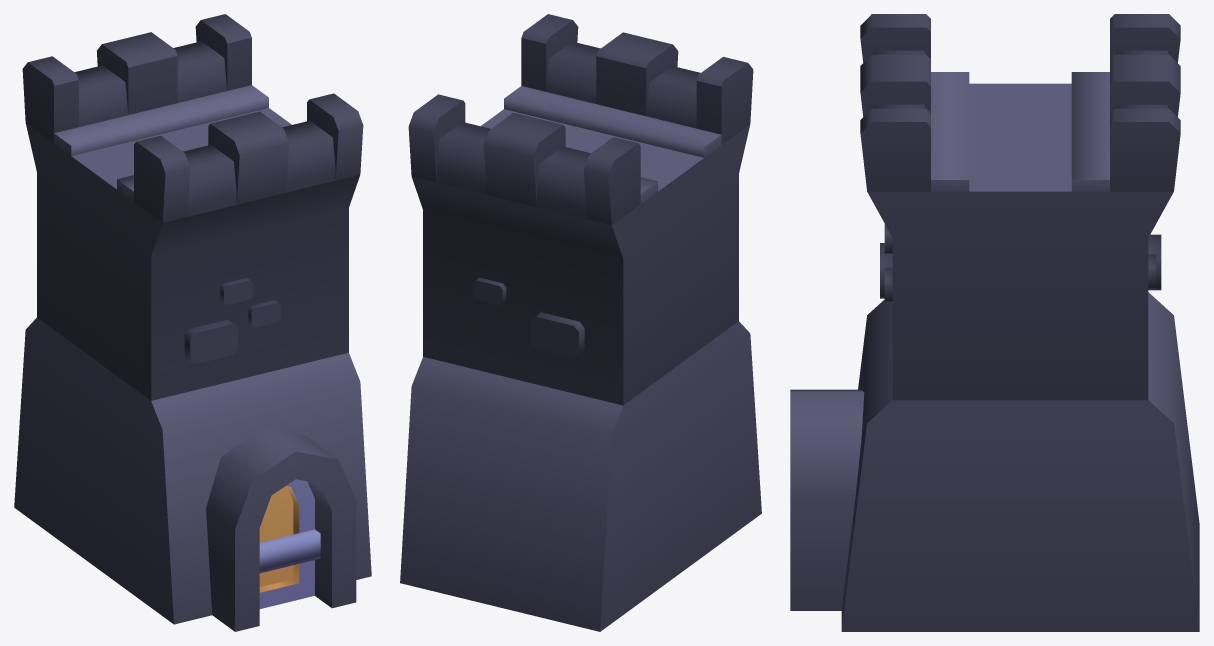
Rendered from castle-door.fbx.
3 views of the same model, side by side, from view 1: azimuth 30°, elevation 25°; view 2: azimuth 150°, elevation 25°; view 3: azimuth 270°, elevation 25° (orthographic). The views are drawn at different scales.
Visible parts, largest first — view 1: castle-door; view 2: castle-door; view 3: castle-door.
Boxes of the visible parts, x1,y1,x2,y2 form: castle-door: (14,14,371,631); castle-door: (400,14,761,631); castle-door: (790,14,1199,631).
Bounding box in the file's own units: 200 × 440 × 320.
